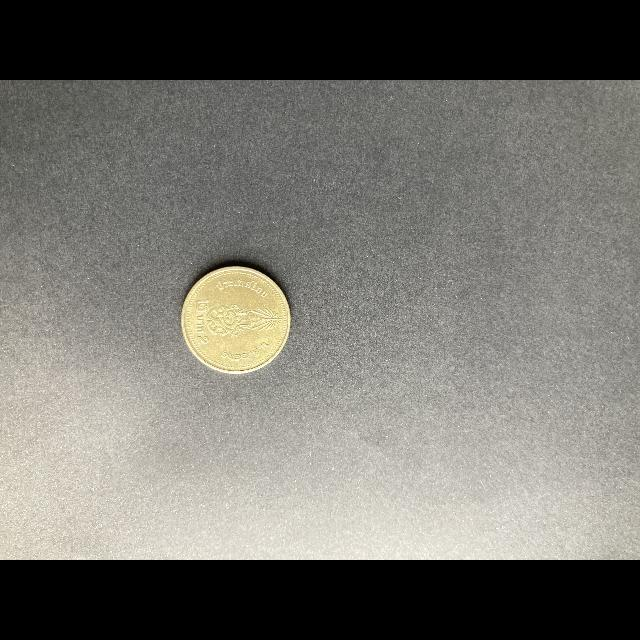2 Bath: (179, 262, 296, 380)
